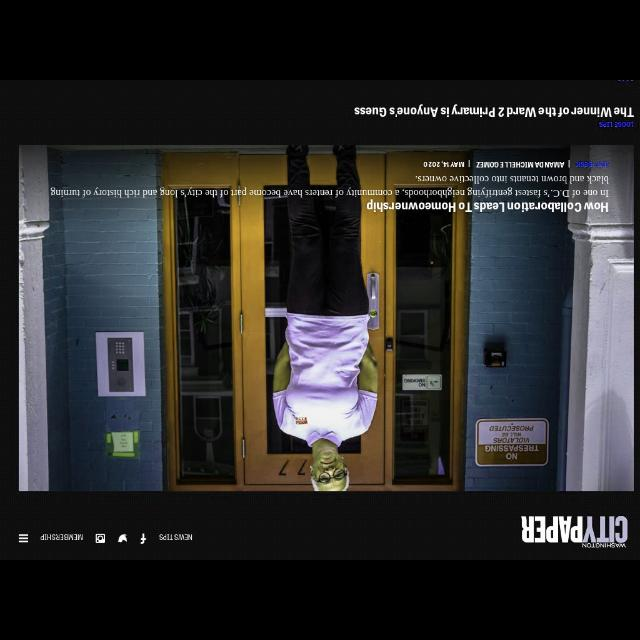icon: (138, 532, 148, 544), (116, 534, 128, 544), (95, 533, 107, 543), (17, 533, 29, 543)
image: (20, 145, 634, 492), (520, 516, 628, 548)
text: (50, 176, 610, 198), (354, 104, 636, 118), (365, 200, 609, 212), (476, 160, 566, 170), (423, 160, 465, 168), (598, 120, 636, 128), (158, 534, 194, 542), (41, 534, 84, 540), (576, 162, 610, 168)
